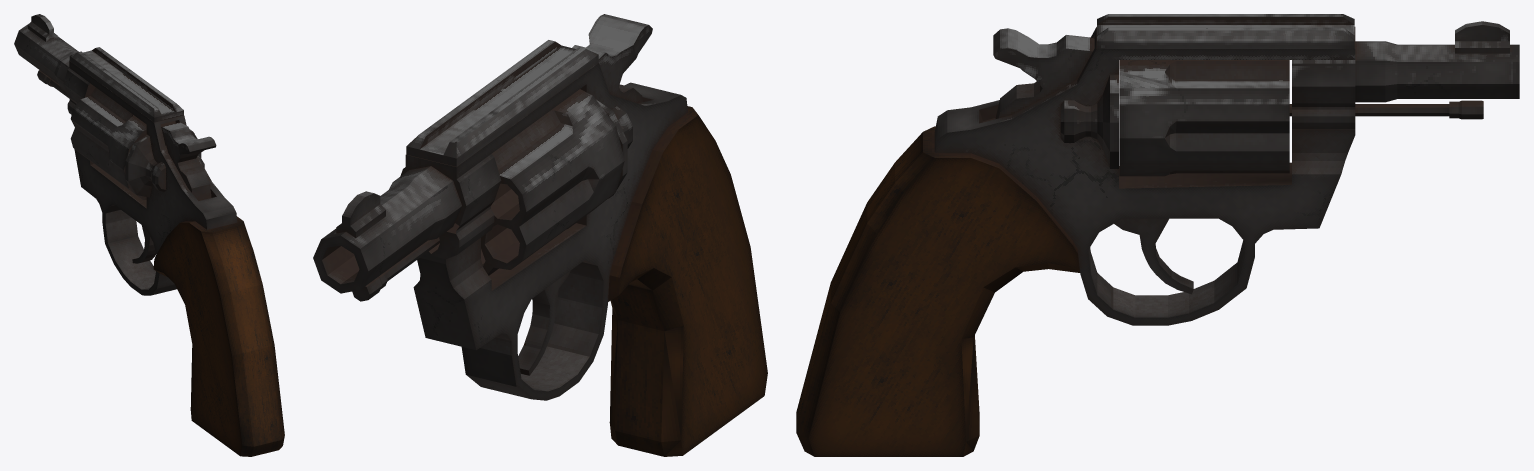
Rendered from retro_ps2_revolver.glb.
3 renders of one model, left to right at view 1: azimuth 30°, elevation 25°; view 2: azimuth 150°, elevation 25°; view 3: azimuth 270°, elevation 25°, orthographic. The views are drawn at different scales.
Parts seen in each view (by area): view 1: Object_2; view 2: Object_2; view 3: Object_2.
Boxes of the visible parts, bbox=[...] form: Object_2: bbox=[14, 14, 284, 456]; Object_2: bbox=[313, 14, 767, 456]; Object_2: bbox=[796, 14, 1519, 456].
Size of the model in its own units: 0.8137 by 2.83 by 4.42.
1 material, 1 textured.
